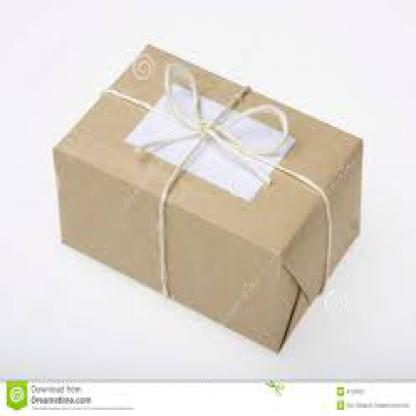paquete: (38, 14, 376, 365)
